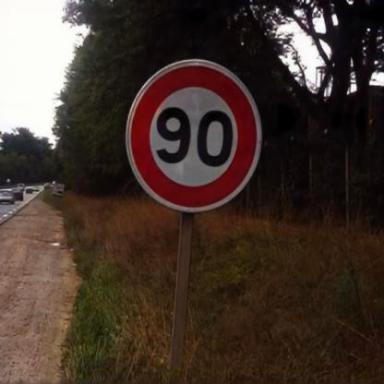Speed_limit_90: (131, 68, 254, 205)
